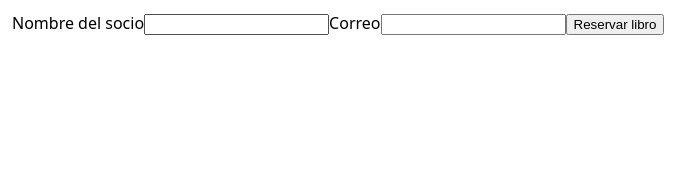
Test case: FormularioReserva › si el correo no tiene @, no llama a onReservar y avisa.
Type " PEPE " into the field labelled "Nombre del socio" at (237, 24), box [144, 14, 329, 35]
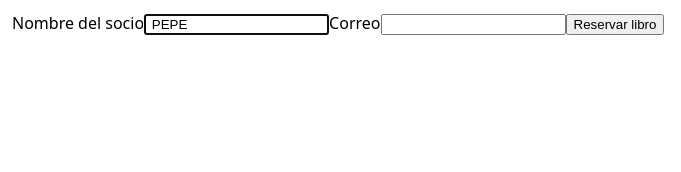
Type " joseejemplo.com " into the field labelled "Correo" at (473, 24), box [380, 14, 566, 35]
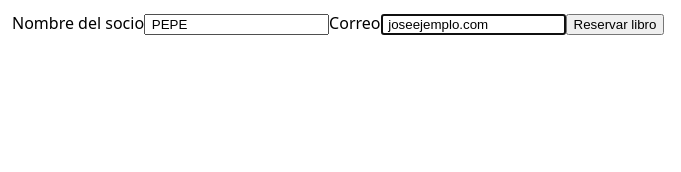
Click the button "Reservar libro" at (615, 24), box [566, 14, 664, 35]
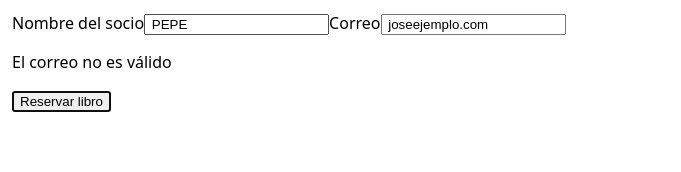
Expected: the text "El correo no es válido" is shown, [12, 51, 172, 73]
